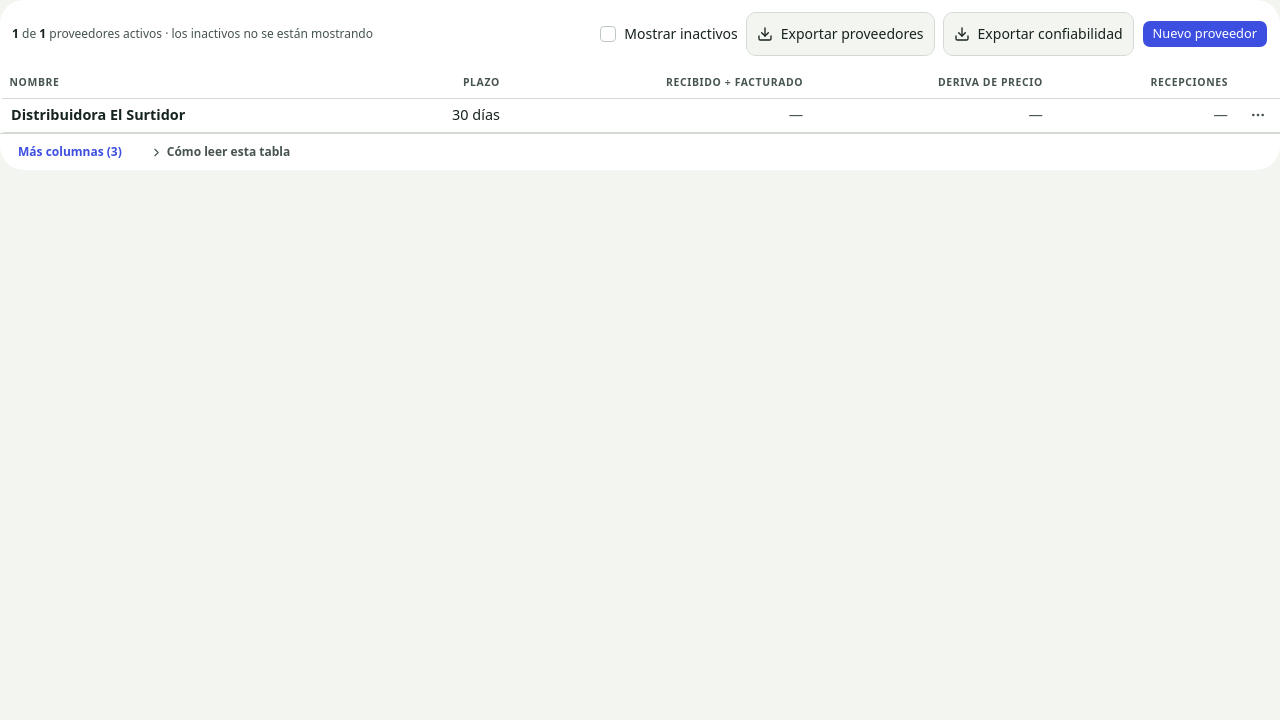
Test: SuppliersTab — entidad canónica, baja lógica, NIT duplicado con mensaje específico › el menú «⋯» de la fila tiene las tres acciones, y «Editar» abre el formulario del proveedor
The width and height of the screenshot is (1280, 720).
Expected: the text "Distribuidora El Surtidor" is shown, 2,98 -> 382,132
Step 1. Click the button named "Acciones de Distribuidora El Surtidor" → [1258, 115], box 1244,101 -> 1272,129
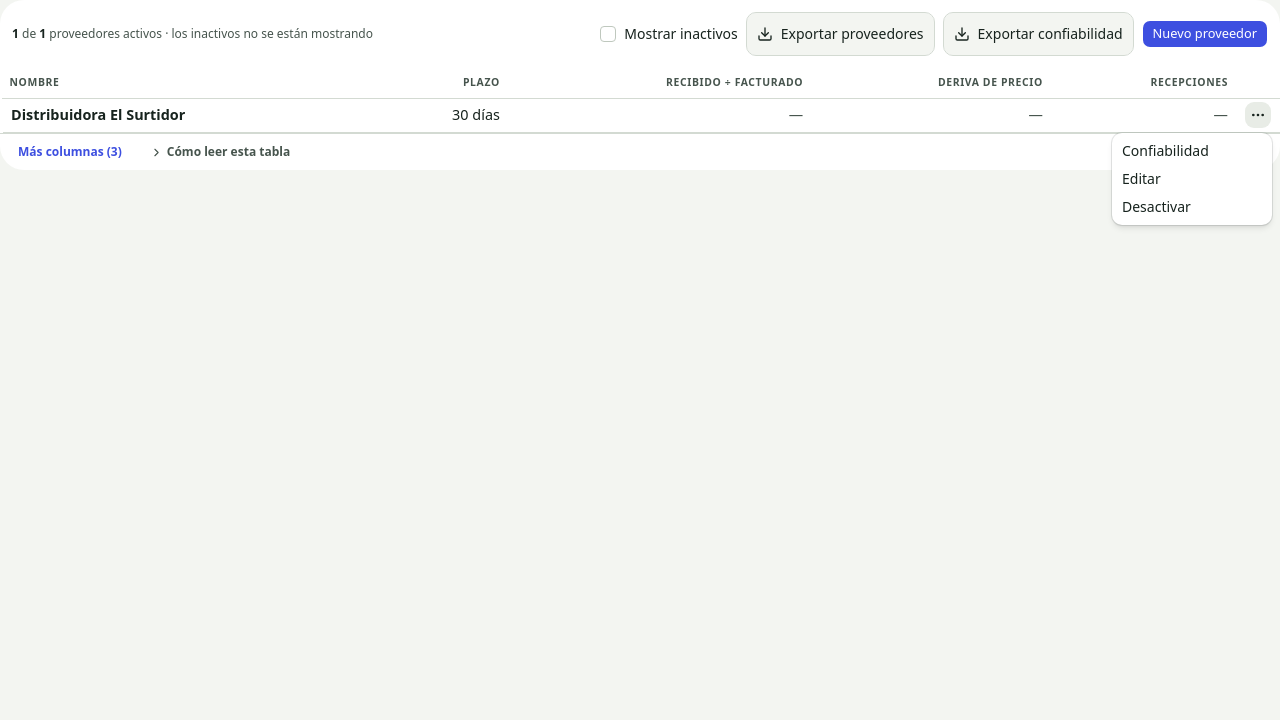
Expected: the menu item "Confiabilidad" is shown, 1122,141 -> 1209,160
Expected: the menu item "Desactivar" is shown, 1122,197 -> 1191,216
Step 2. Click the menu item "Editar" → [1141, 178], box 1122,169 -> 1161,188
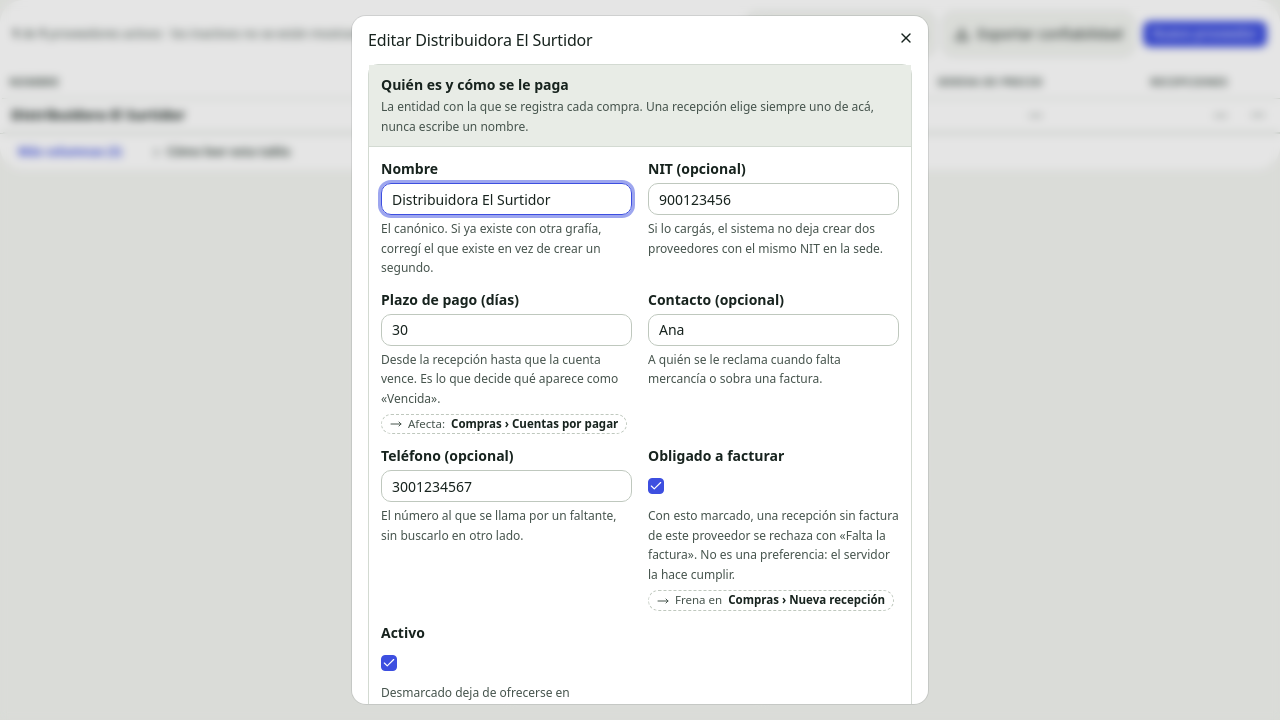
Expected: the dialog "Editar Distribuidora El Surtidor" is shown, 352,16 -> 928,704
